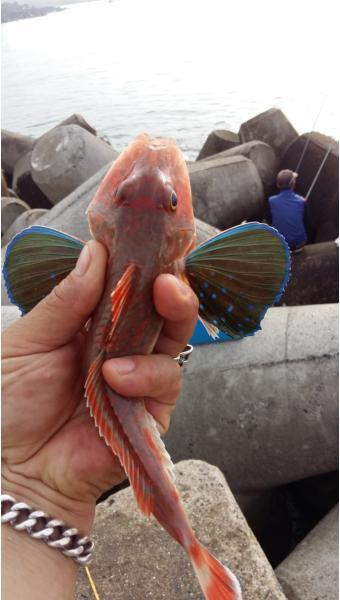fish: (3, 135, 291, 599)
